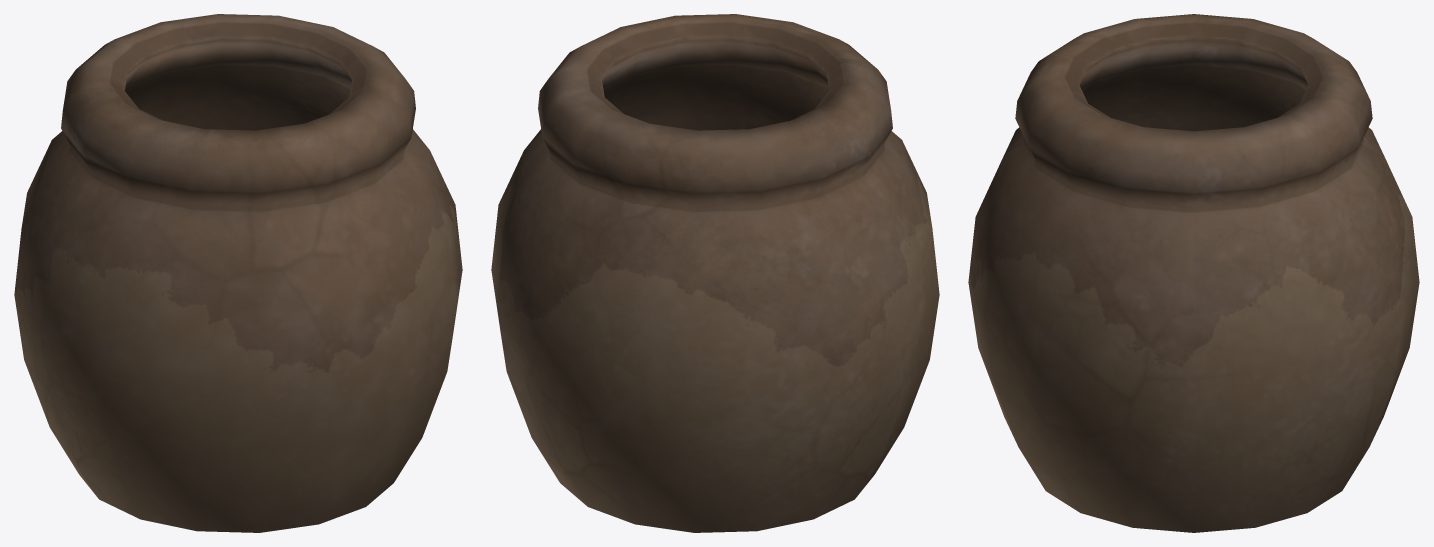
Rendered from Jar.fbx.
3 renders of one model, left to right at view 1: azimuth 30°, elevation 25°; view 2: azimuth 150°, elevation 25°; view 3: azimuth 270°, elevation 25°, orthographic.
Visible parts, largest first — view 1: JAR; view 2: JAR; view 3: JAR.
Part boxes in pixels (x1,y1,x2,y2): JAR: [14, 14, 462, 532]; JAR: [491, 14, 939, 532]; JAR: [968, 14, 1419, 532].
Bounding box in the file's own units: 5.21 × 4.96 × 5.21.
1 material, 1 textured.
